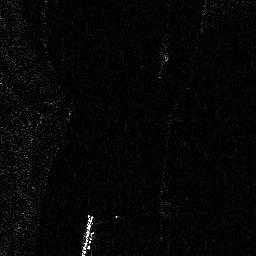ship: (79, 213, 96, 256)
